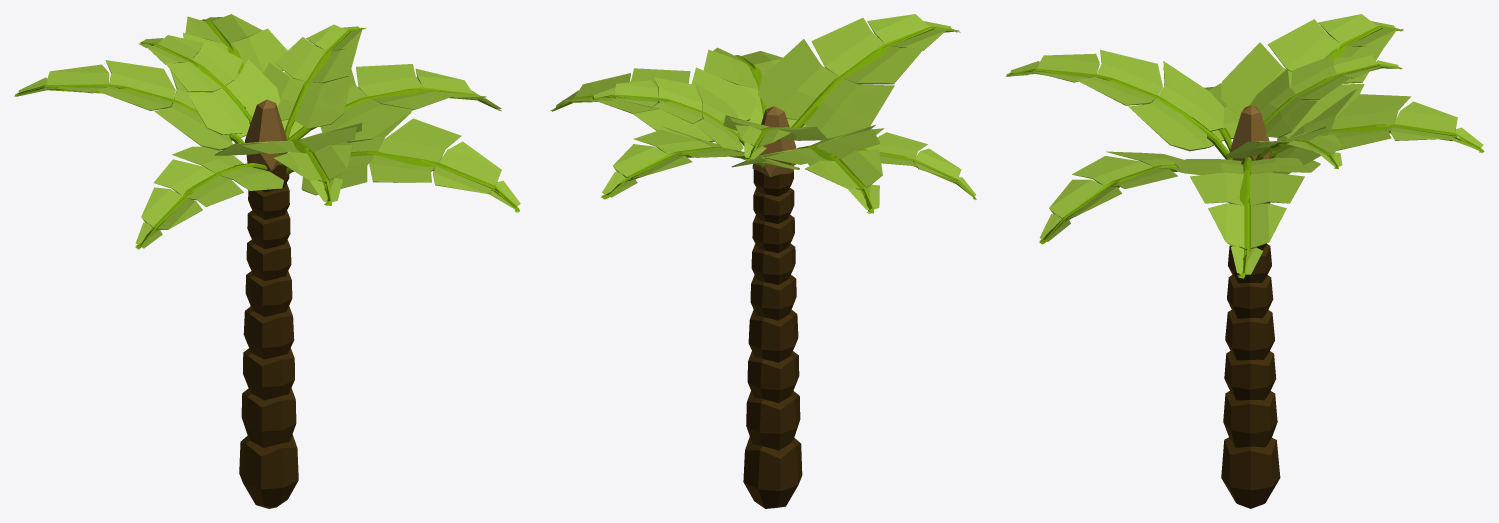
File: IO_jungleTree.fbx
3 renders of one model, left to right at view 1: azimuth 30°, elevation 25°; view 2: azimuth 150°, elevation 25°; view 3: azimuth 270°, elevation 25°, orthographic.
Parts seen in each view (by area): view 1: fernTree; view 2: fernTree; view 3: fernTree.
Boxes of the visible parts, x1,y1,x2,y2 form: fernTree: [14, 14, 520, 508]; fernTree: [550, 14, 976, 508]; fernTree: [1005, 14, 1484, 508].
Size of the model in its own units: 1051 by 1066 by 1085.
